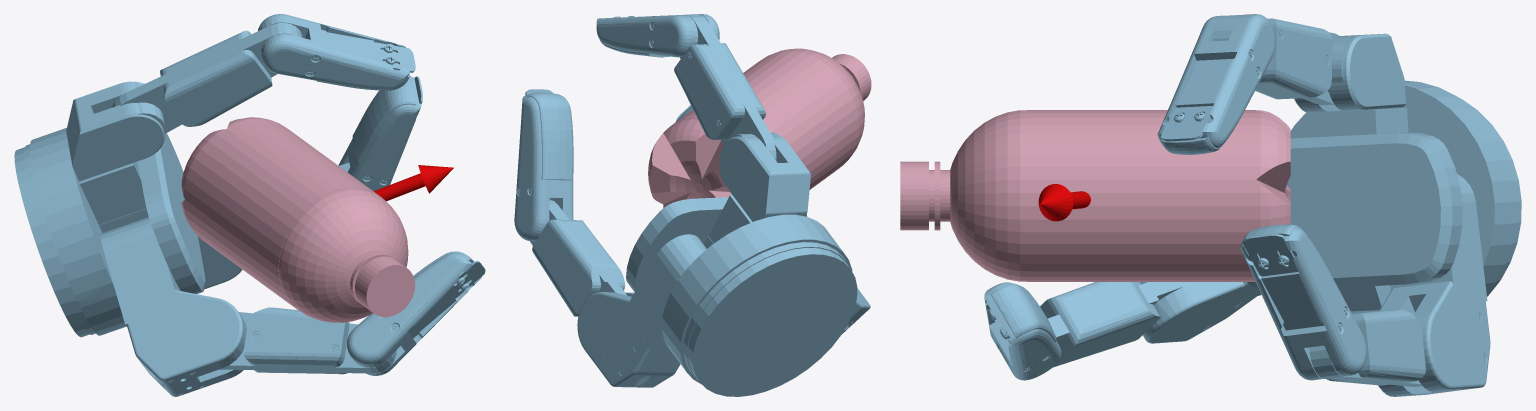
3 views of the same model, side by side, from view 1: azimuth 30°, elevation 25°; view 2: azimuth 150°, elevation 25°; view 3: azimuth 270°, elevation 25° (orthographic). The views are drawn at different scales.
Visible parts, largest first — view 1: world, water_bottle.stl; view 2: world, water_bottle.stl; view 3: world, water_bottle.stl.
Part boxes in pixels (x1,y1,x2,y2): world: [14, 14, 485, 396]; water_bottle.stl: [181, 117, 415, 322]; world: [514, 14, 870, 396]; water_bottle.stl: [648, 48, 871, 207]; world: [984, 14, 1521, 396]; water_bottle.stl: [900, 110, 1290, 281].
Bounding box in the file's own units: 0.1802 × 0.1557 × 0.2173.
